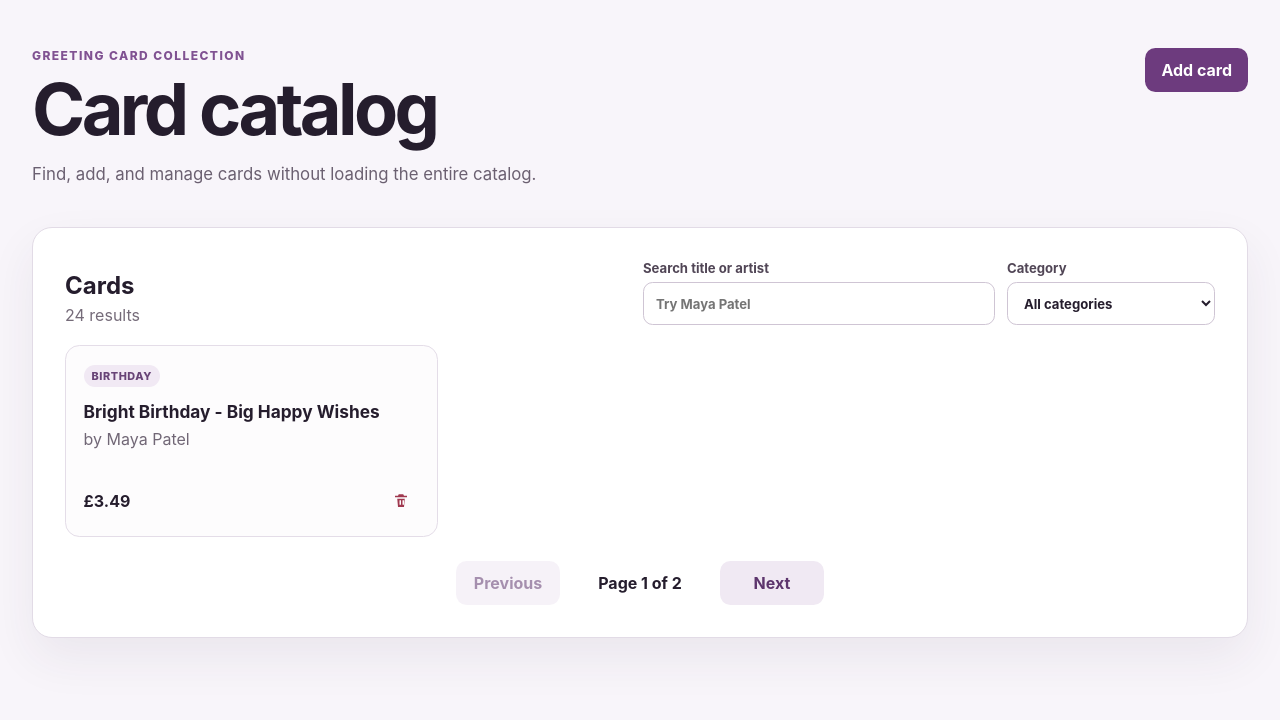
Test: App › requests the next page
The image size is (1280, 720).
Check: the heading "Bright Birthday - Big Happy Wishes" is shown, box [84,400,419,424]
Click the button "Next".
click(772, 583)  # box [720,561,824,605]
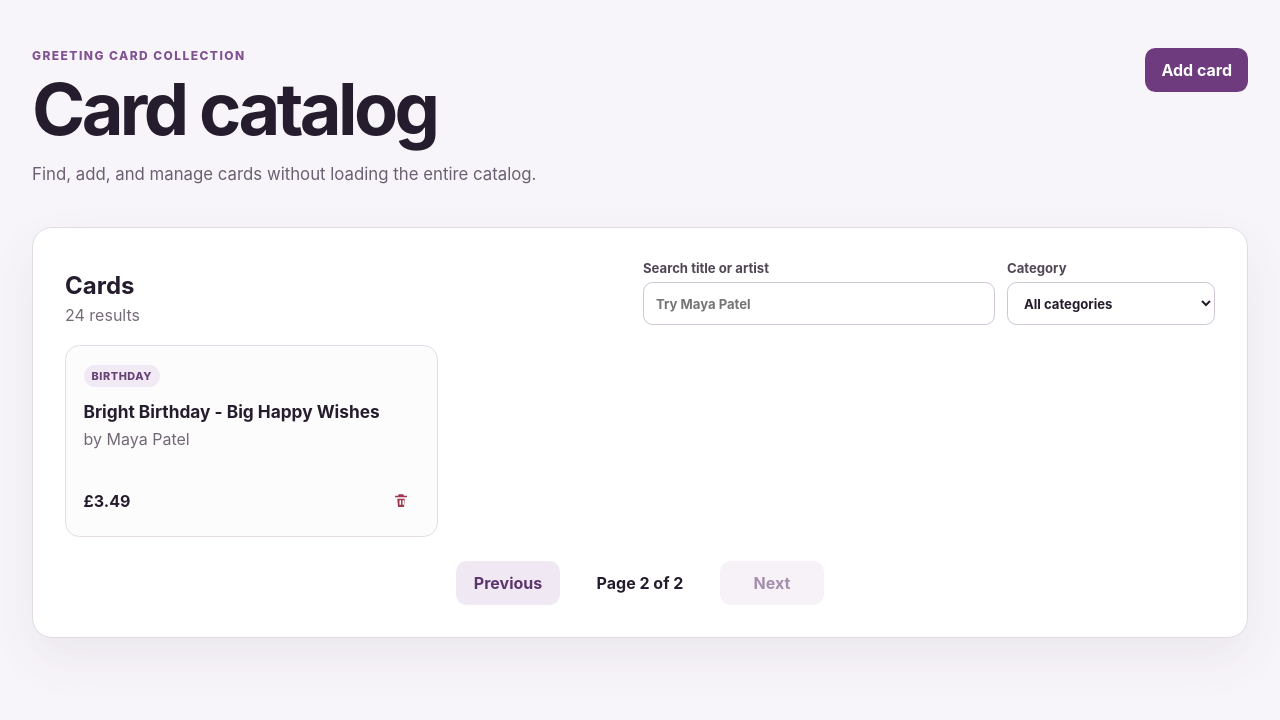
Check: the text "Page 2 of 2" is shown, box [597,573,683,593]
